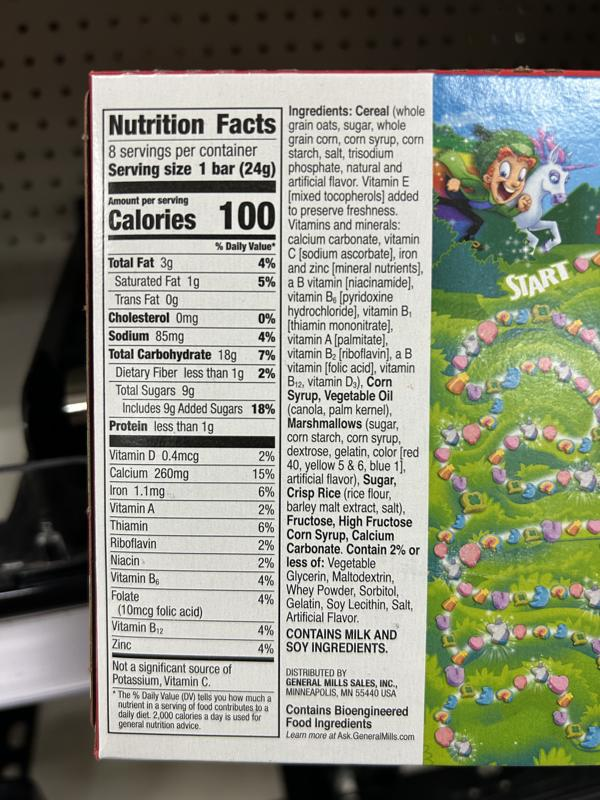ingredients: (284, 102, 428, 626)
